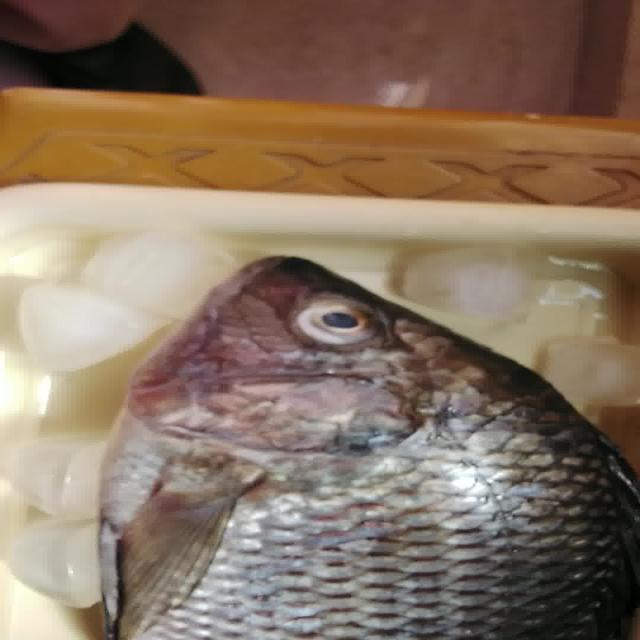Fresh: (284, 292, 384, 349)
